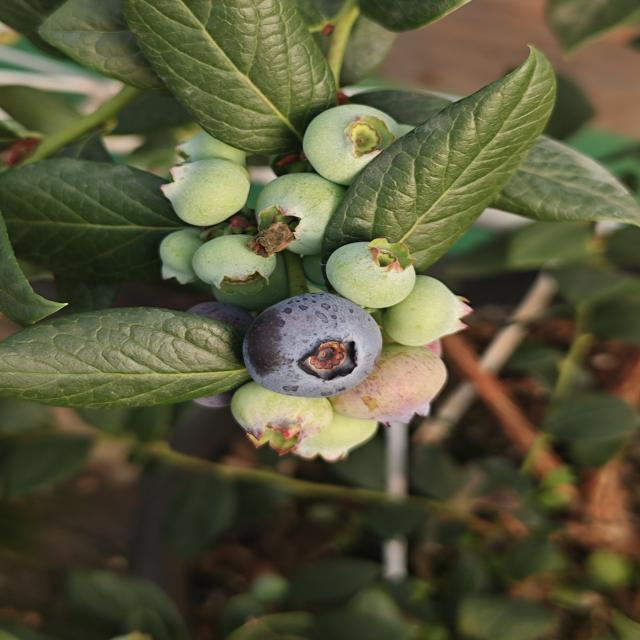ripe: (240, 288, 385, 392)
